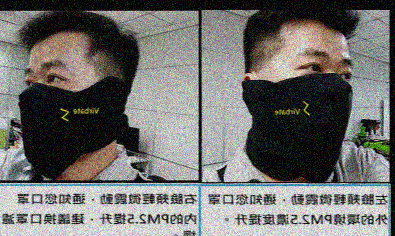with_mask: (248, 42, 354, 167), (20, 56, 99, 167)
